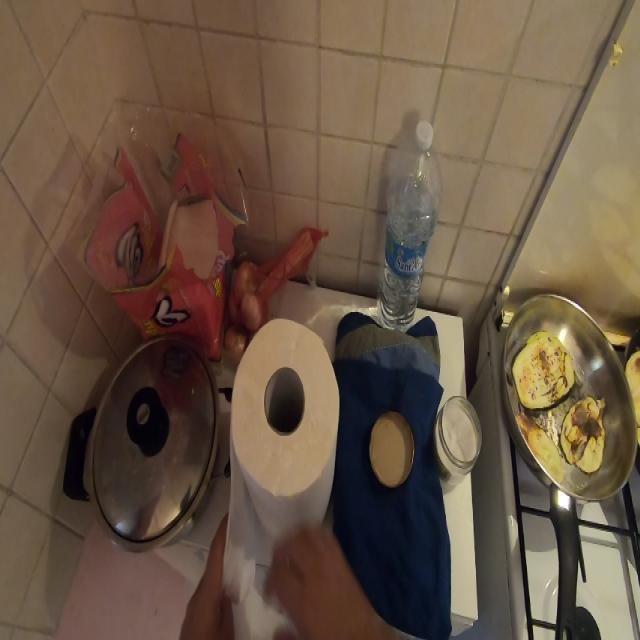jar: (435, 376, 478, 491)
lid: (74, 336, 216, 526)
pan: (490, 270, 640, 636)
paper: (227, 321, 338, 502)
right hand: (271, 515, 374, 640)
water filter: (382, 85, 438, 334)
